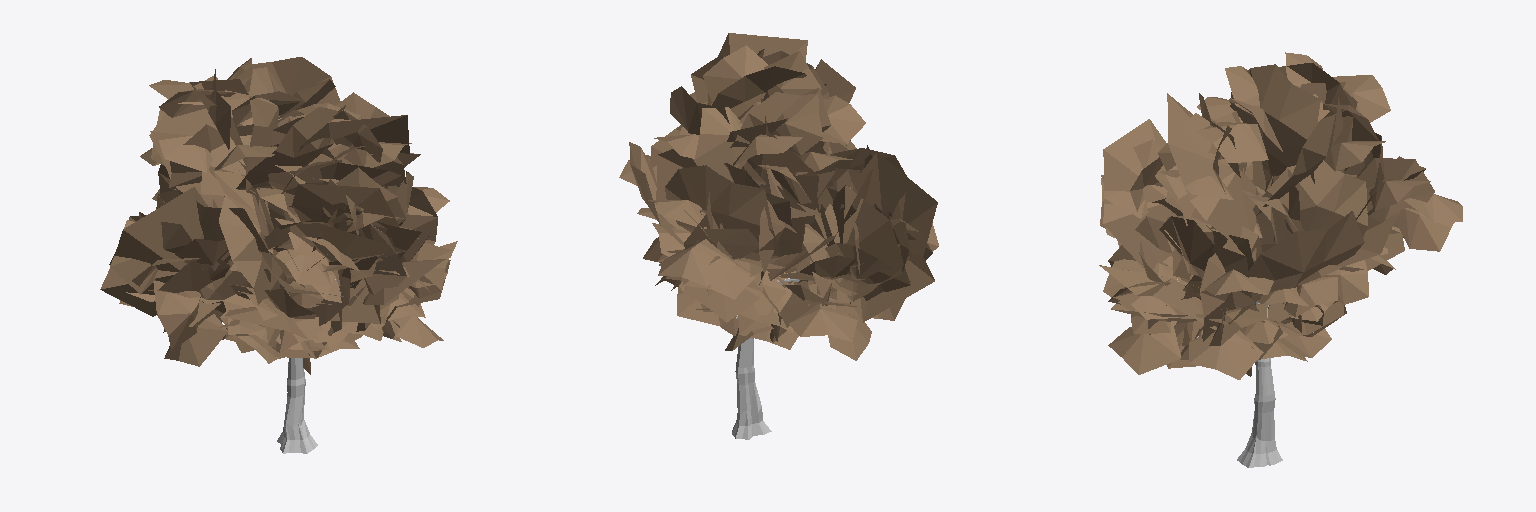
Rendered from tree_mango_var01.obj.
The picture shows the model from 3 angles: view 1: azimuth 30°, elevation 25°; view 2: azimuth 150°, elevation 25°; view 3: azimuth 270°, elevation 25°; orthographic projection.
Parts seen in each view (by area): view 1: tree_mango_01; view 2: tree_mango_01; view 3: tree_mango_01.
Part boxes in pixels (bbox=[...]): tree_mango_01: bbox=[100, 57, 457, 453]; tree_mango_01: bbox=[619, 33, 938, 439]; tree_mango_01: bbox=[1099, 52, 1462, 467].
Size of the model in its own units: 19.44 by 21.77 by 19.08.